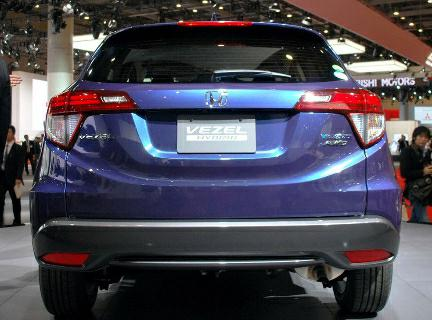本田-VEZEL: (19, 17, 407, 320)
